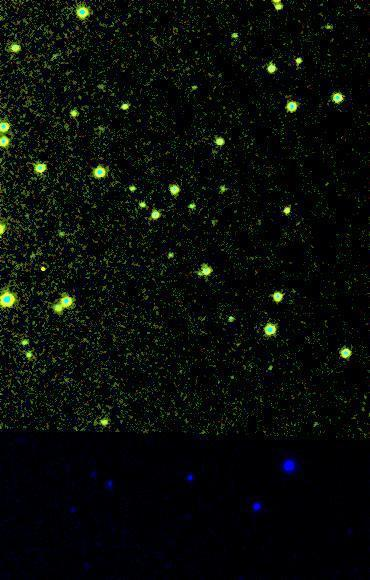star: (28, 253, 58, 283)
